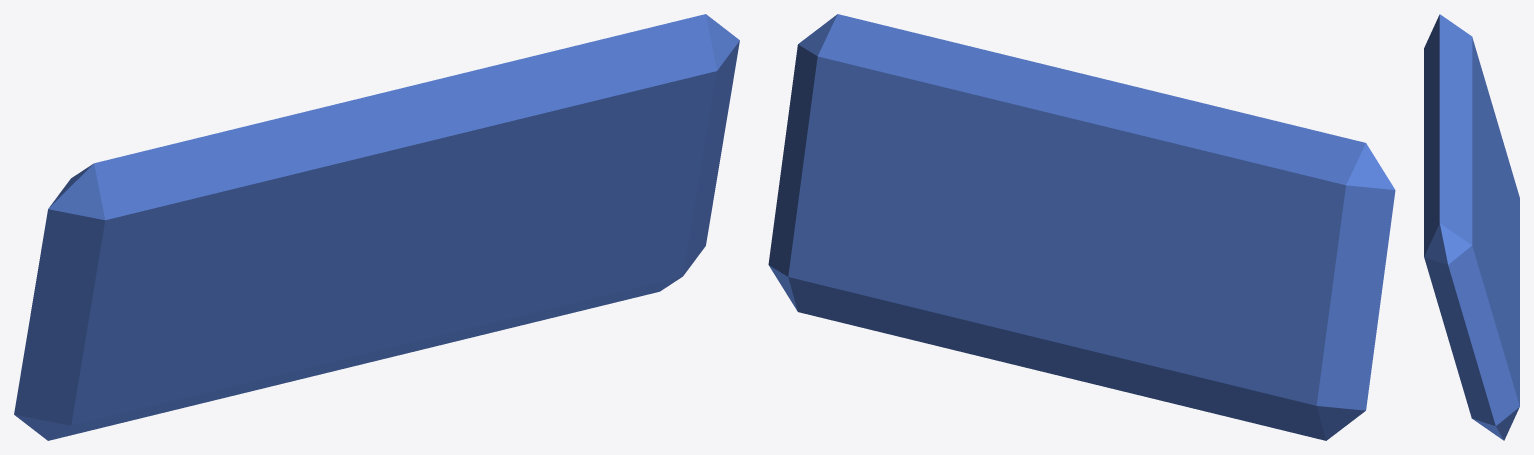
Rendered from pillowBlueLong.obj.
3 renders of one model, left to right at view 1: azimuth 30°, elevation 25°; view 2: azimuth 150°, elevation 25°; view 3: azimuth 270°, elevation 25°, orthographic. The views are drawn at different scales.
Parts seen in each view (by area): view 1: pillowBlueLong; view 2: pillowBlueLong; view 3: pillowBlueLong.
Part boxes in pixels (x1,y1,x2,y2): pillowBlueLong: [14, 14, 739, 440]; pillowBlueLong: [768, 14, 1395, 440]; pillowBlueLong: [1424, 14, 1519, 440].
Size of the model in its own units: 0.5166 by 0.2222 by 0.0885.
